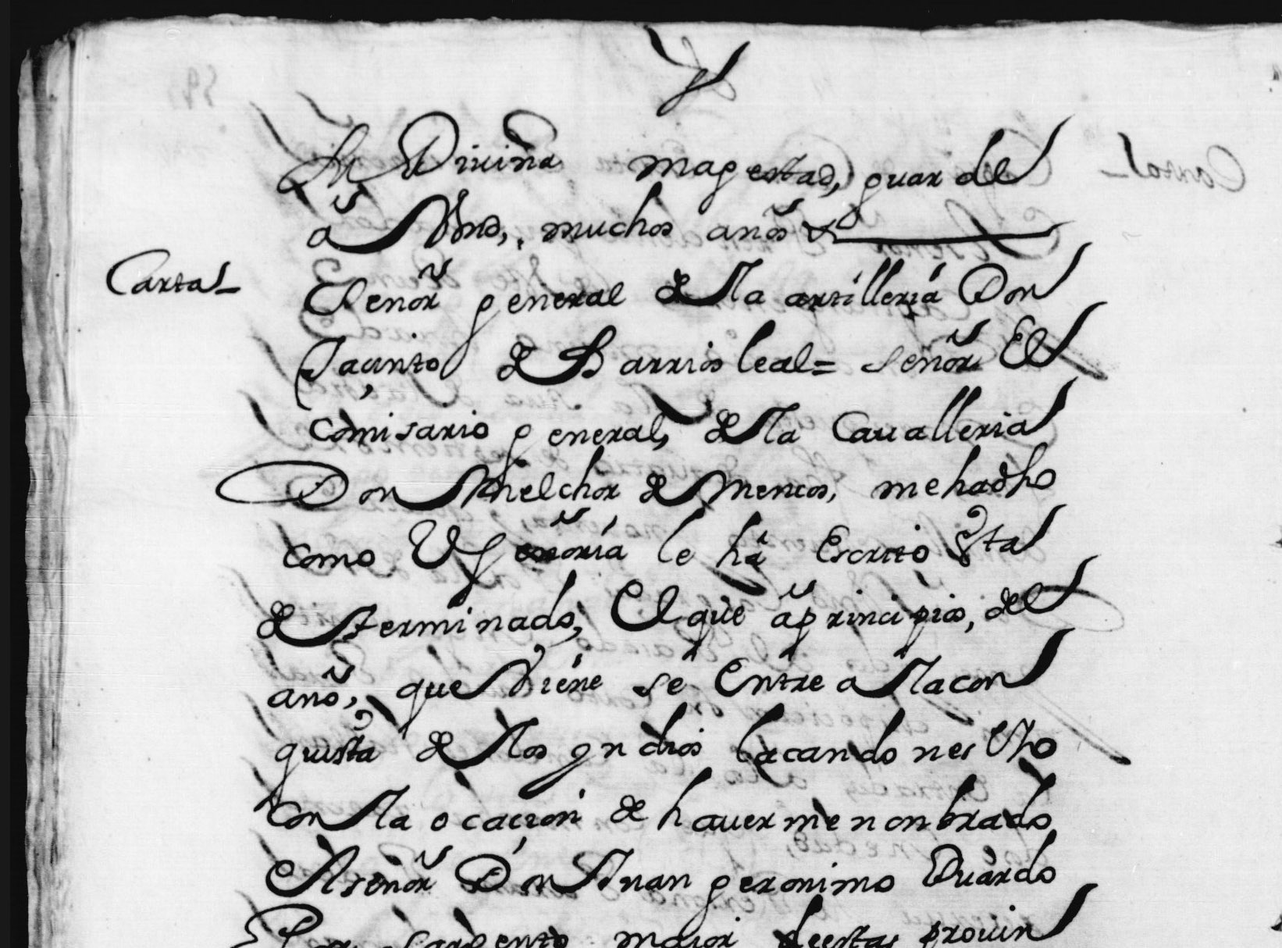lacandon: (736, 702, 976, 766)
